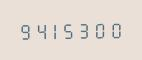five: (62, 20, 76, 39)
four: (32, 20, 46, 40)
nine: (17, 20, 31, 40)
one: (47, 20, 61, 40)
three: (77, 19, 91, 39)
zero: (92, 19, 106, 39), (107, 19, 121, 39)
